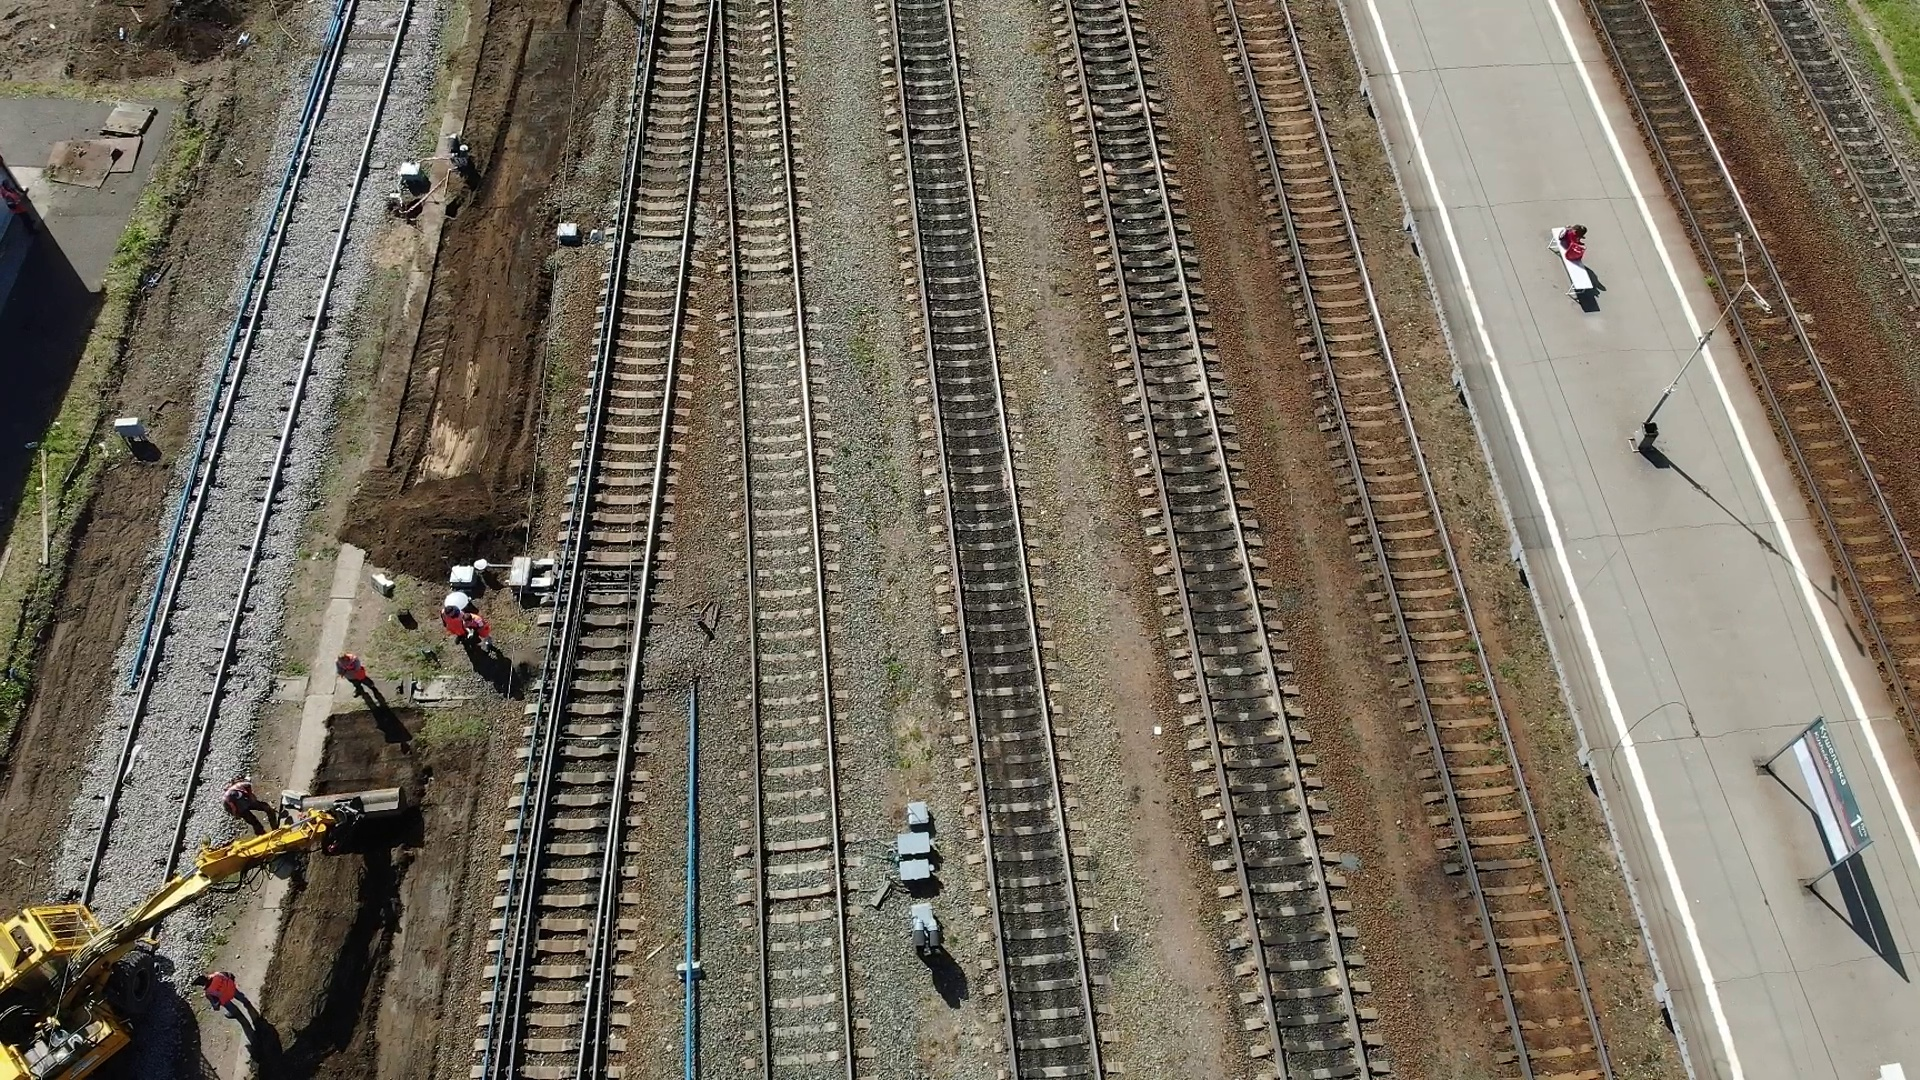kjtv: (1, 867, 210, 1080)
